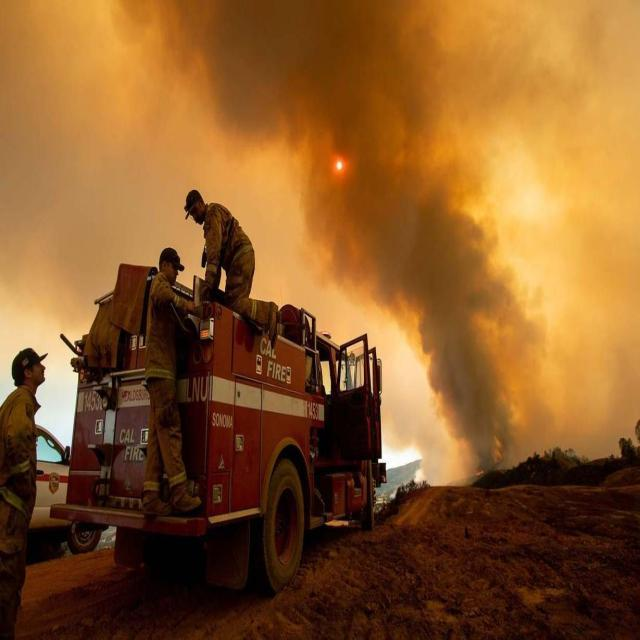Smoke: (124, 2, 564, 480)
